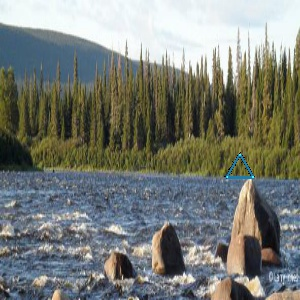triangle: (220, 150, 257, 182)
